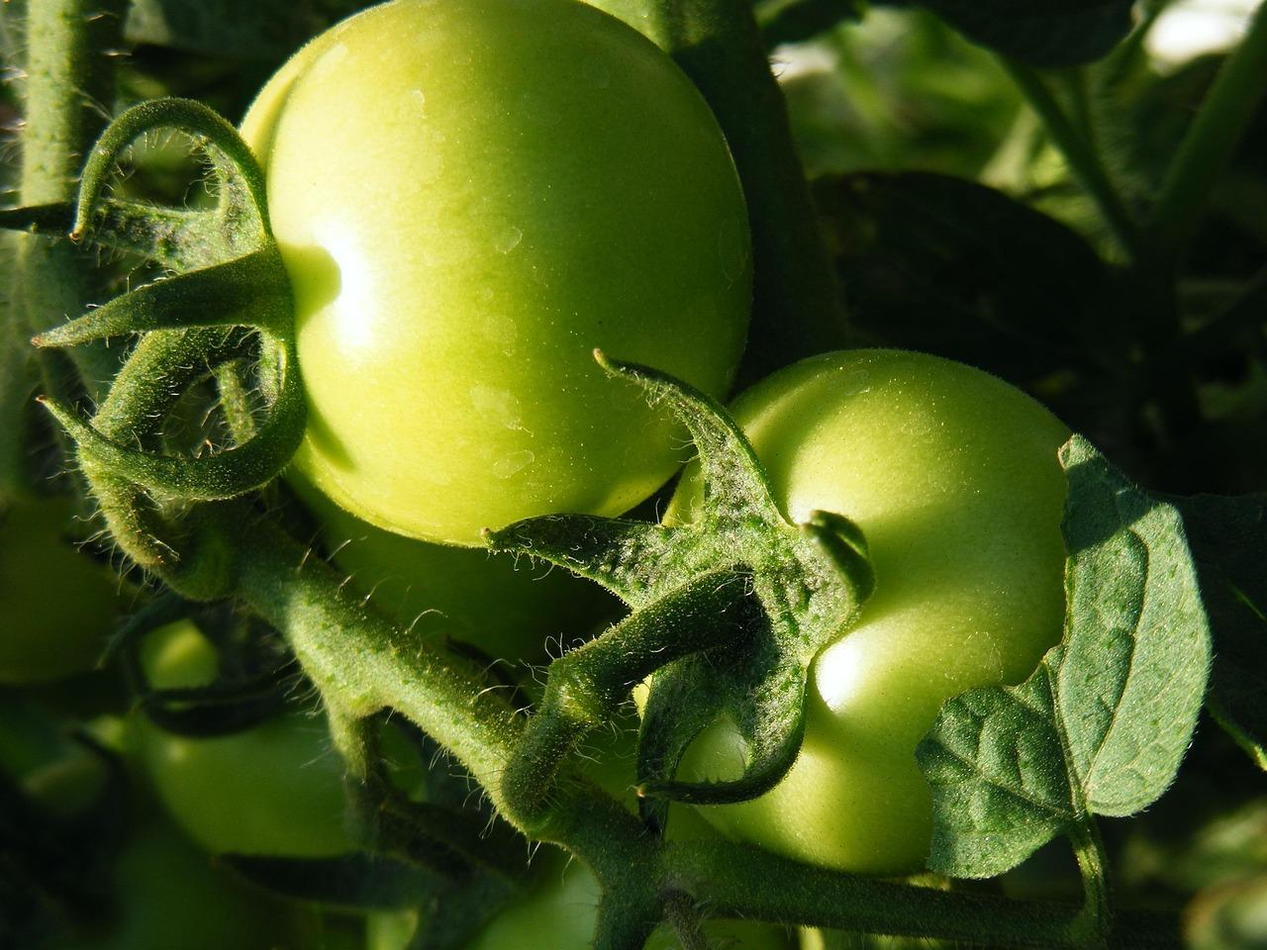Mengkal: (174, 0, 750, 564), (658, 359, 1177, 894)
